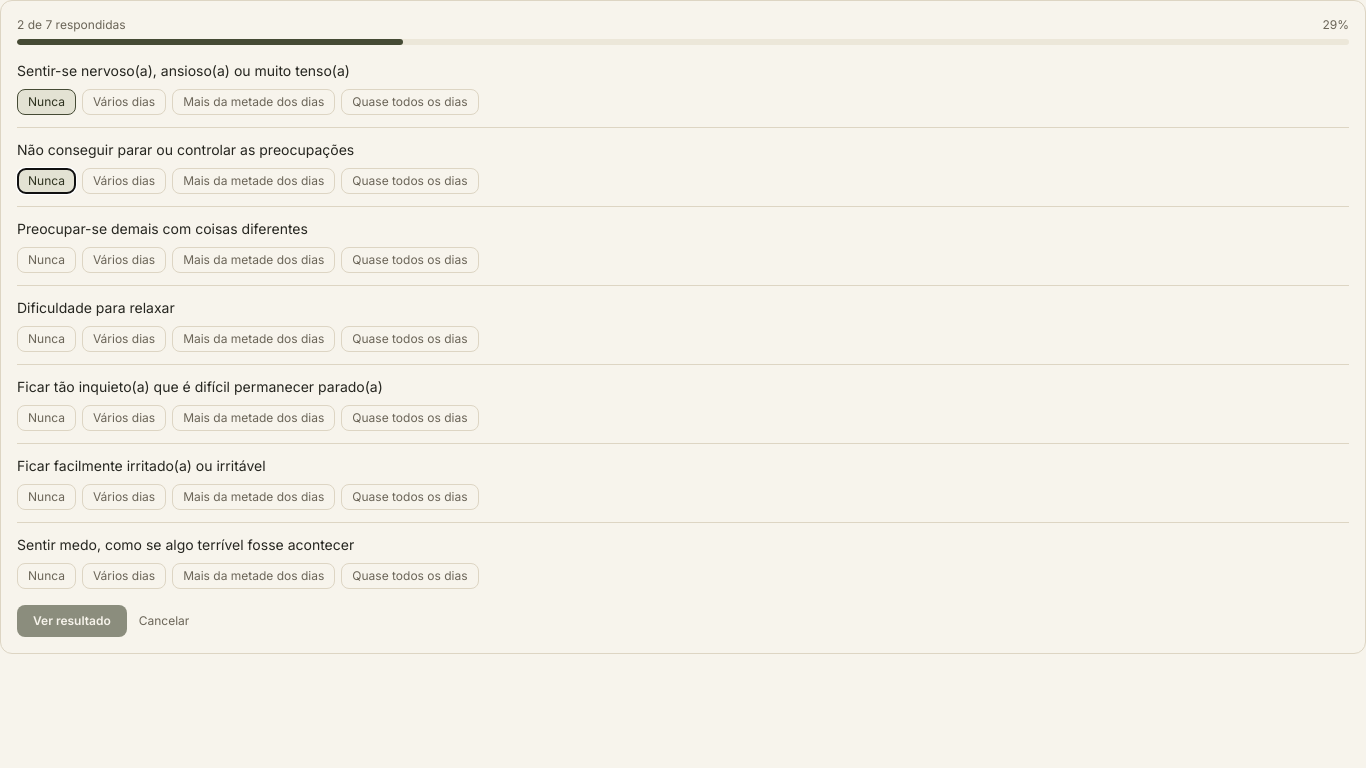
Test case: AssessmentForm › submits all answers in question order and shows the result
This screenshot has width=1366, height=768.
Earlier steps of the test are not shown.
Click the 3rd radio button labelled "Nunca": x=46, y=260 [17,247,76,273]
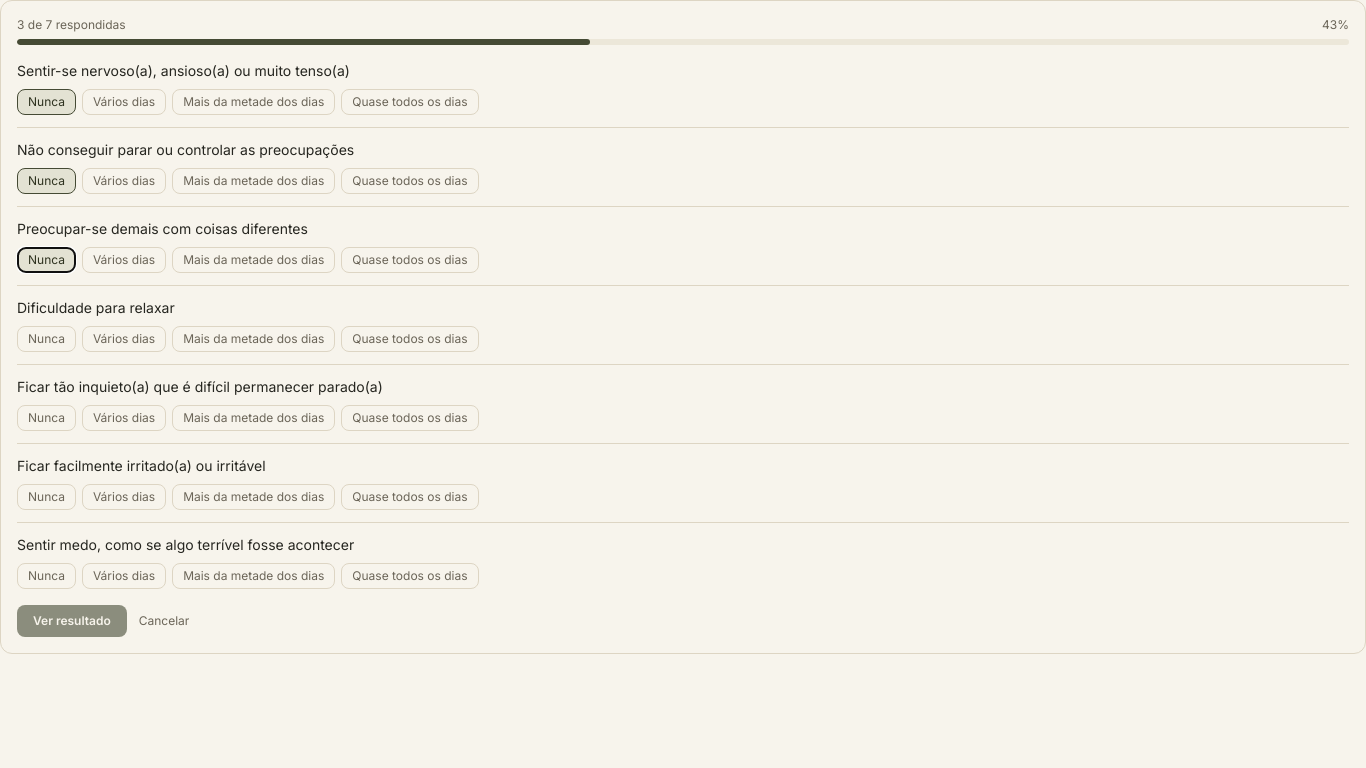
Click the radio button labelled "Nunca" below "Dificuldade para relaxar": x=46, y=339 [17,326,76,352]
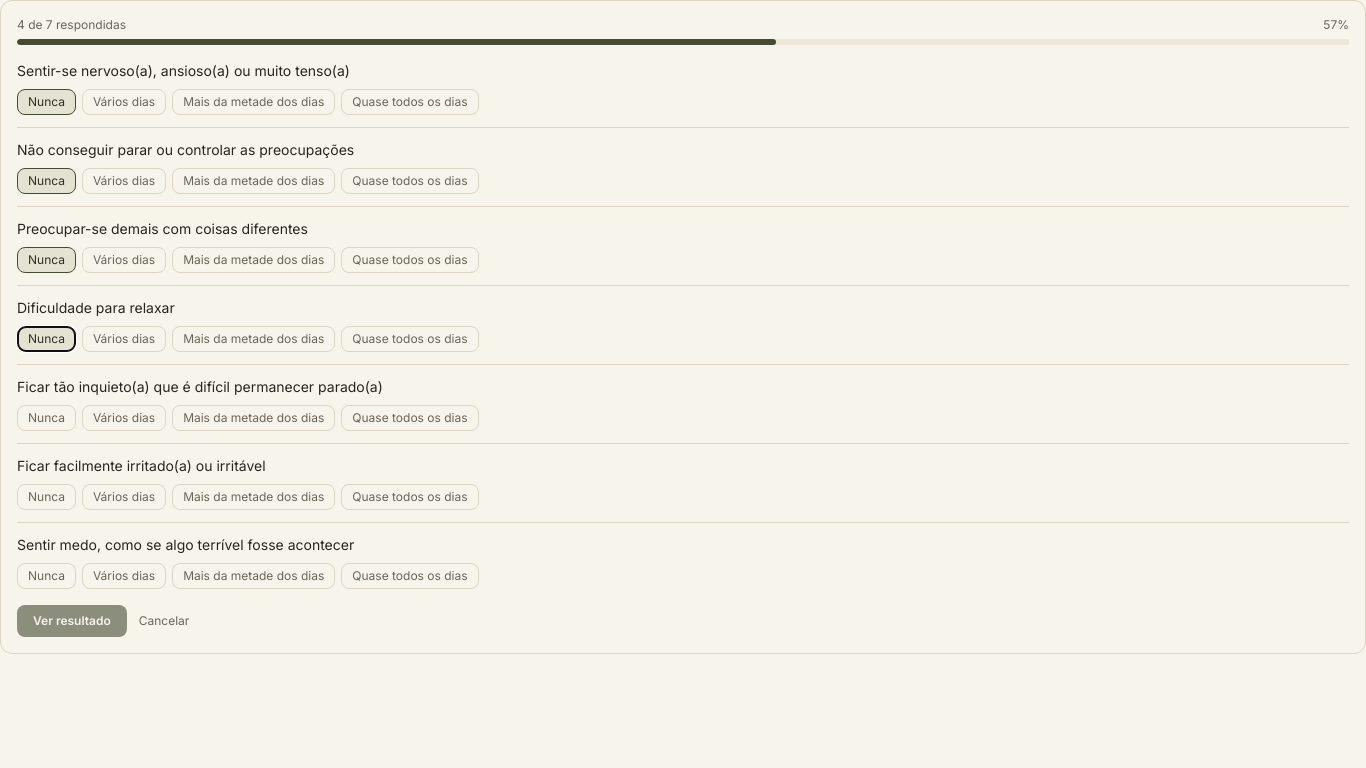
Click the 5th radio button labelled "Nunca": x=46, y=418 [17,405,76,431]
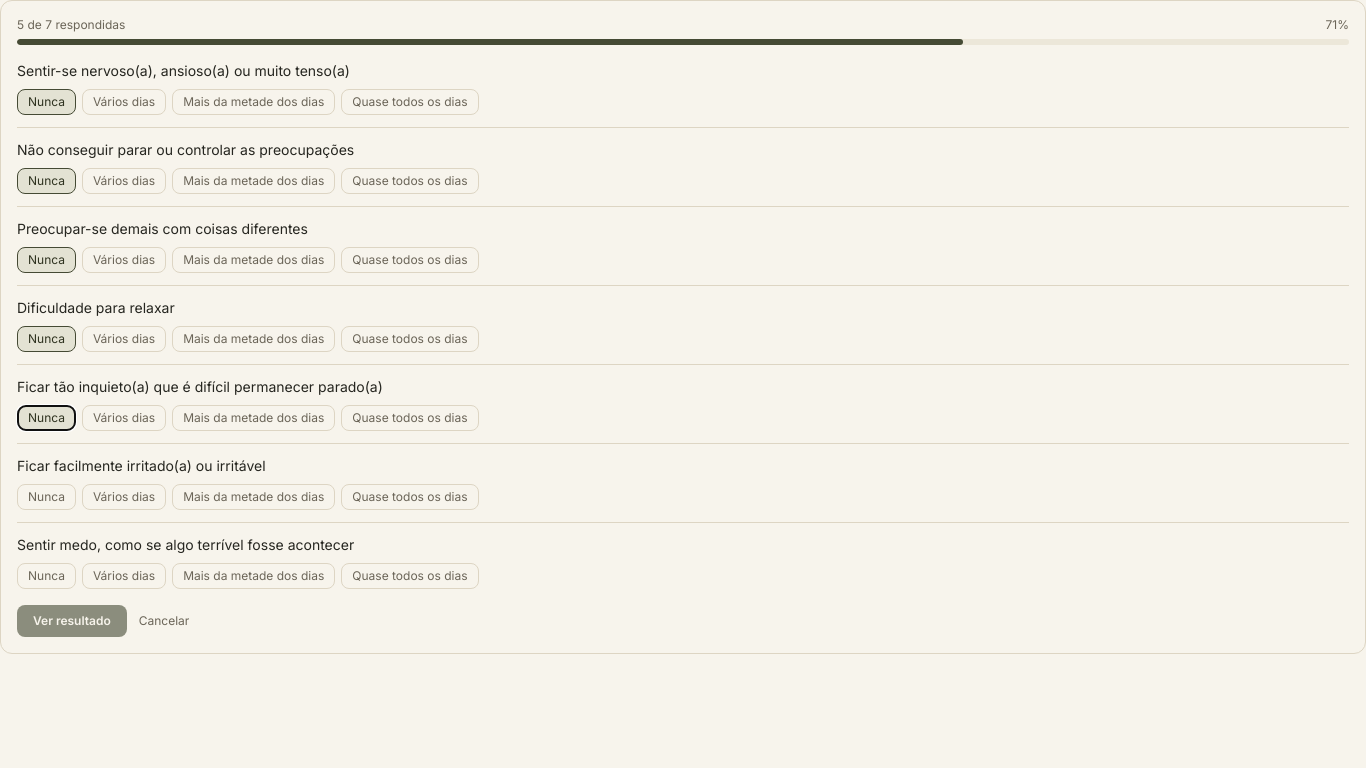
Click the 6th radio button labelled "Nunca": x=46, y=497 [17,484,76,510]
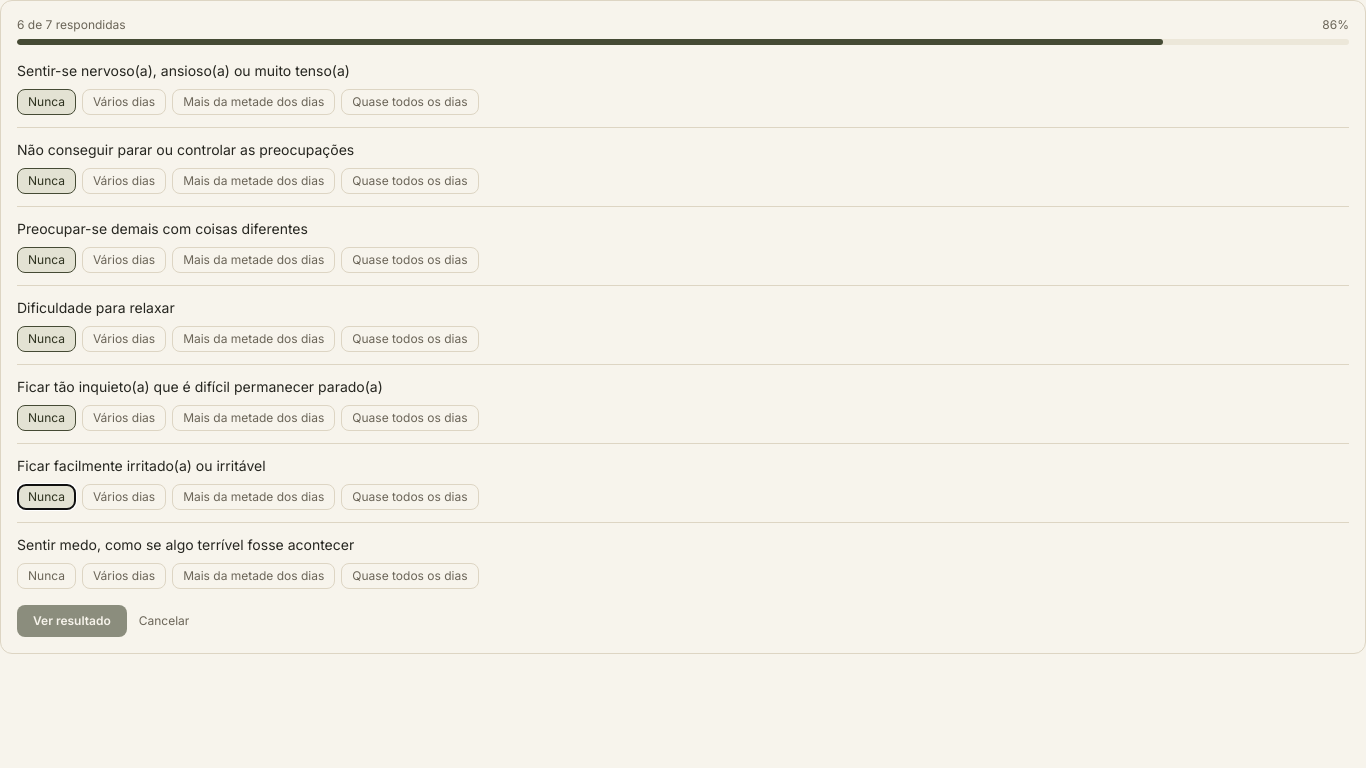
Click the 7th radio button labelled "Nunca": x=46, y=576 [17,563,76,589]
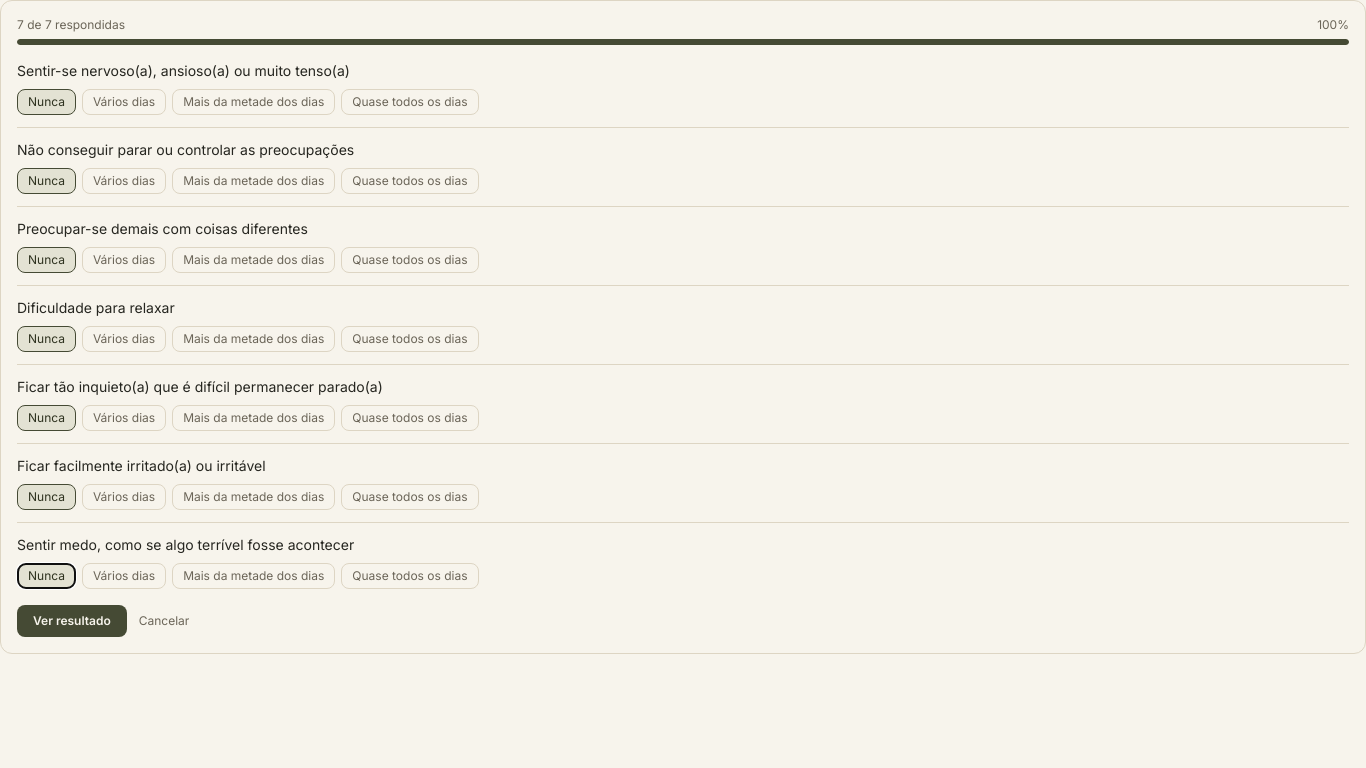
Click the button "Ver resultado": x=72, y=621 [17,605,127,637]
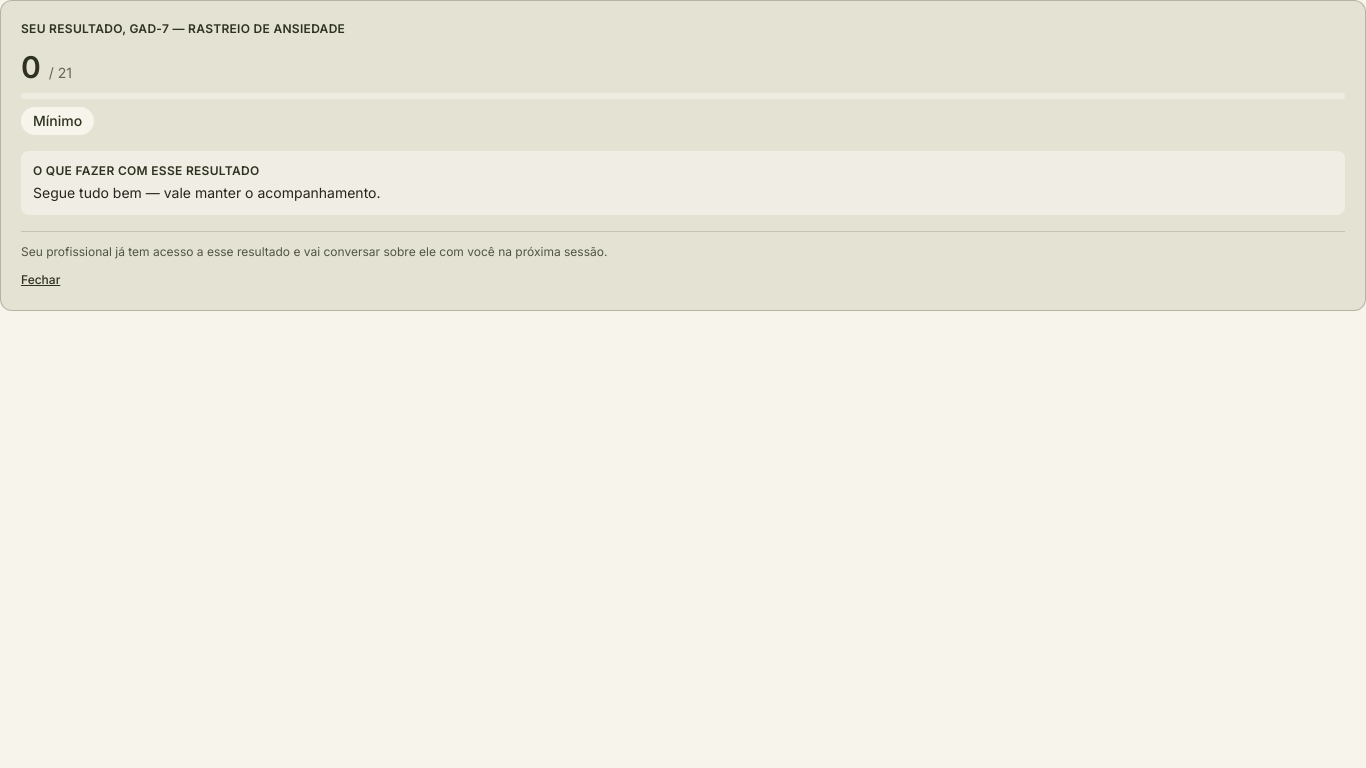
Now the text "Mínimo" is shown, box [21,107,94,135]
